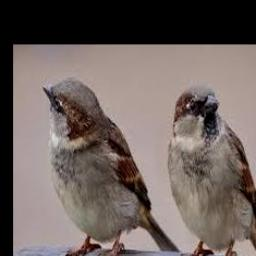Sparrow: (42, 78, 182, 256), (167, 83, 256, 256)
